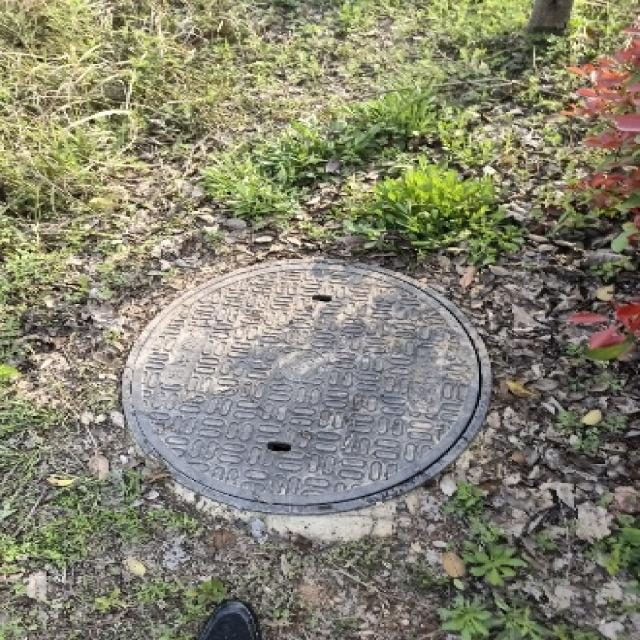Good: (106, 252, 512, 524)
